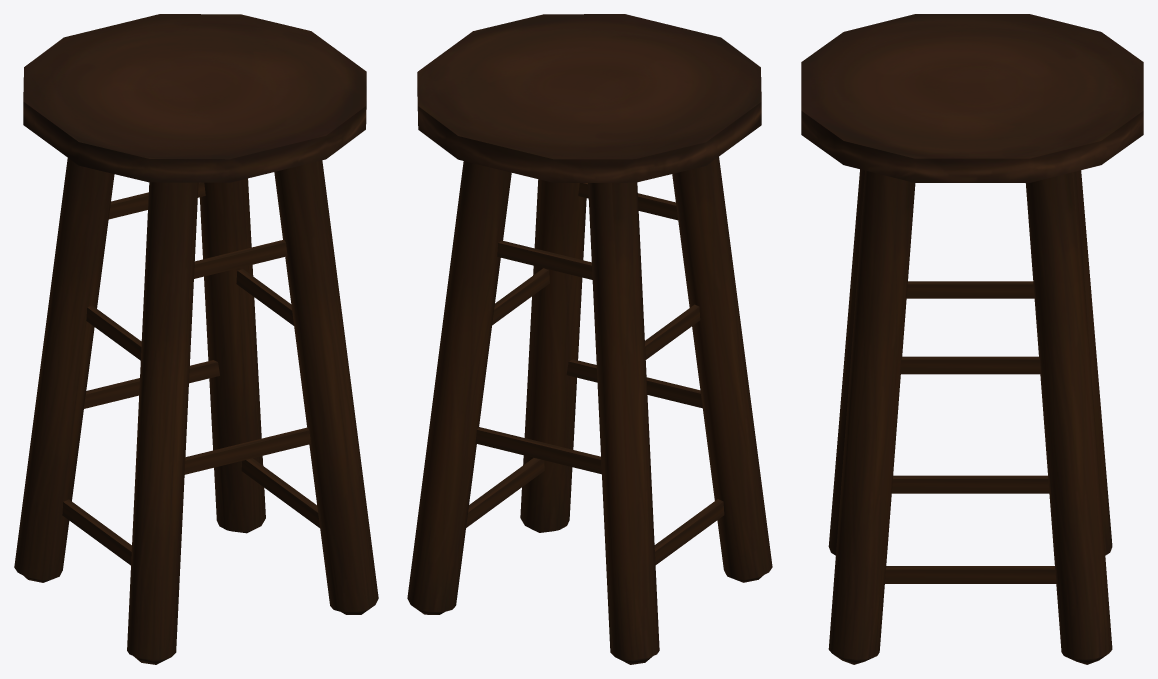
Rendered from Stool_D.fbx.
The picture shows the model from 3 angles, left to right: view 1: azimuth 30°, elevation 25°; view 2: azimuth 150°, elevation 25°; view 3: azimuth 270°, elevation 25°; orthographic projection. The views are drawn at different scales.
Parts seen in each view (by area): view 1: Stool_Legs_A, Stool_Base_A, Stool_Supports_A; view 2: Stool_Legs_A, Stool_Base_A, Stool_Supports_A; view 3: Stool_Legs_A, Stool_Base_A, Stool_Supports_A.
Boxes of the visible parts, x1,y1,x2,y2 form: Stool_Legs_A: [14, 158, 378, 664]; Stool_Base_A: [23, 14, 366, 182]; Stool_Supports_A: [62, 182, 319, 565]; Stool_Legs_A: [407, 157, 772, 664]; Stool_Base_A: [417, 14, 761, 182]; Stool_Supports_A: [466, 183, 724, 564]; Stool_Legs_A: [828, 169, 1112, 664]; Stool_Base_A: [801, 14, 1143, 182]; Stool_Supports_A: [885, 281, 1056, 583].
Bounding box in the file's own units: 5.65 × 9.54 × 5.65.
